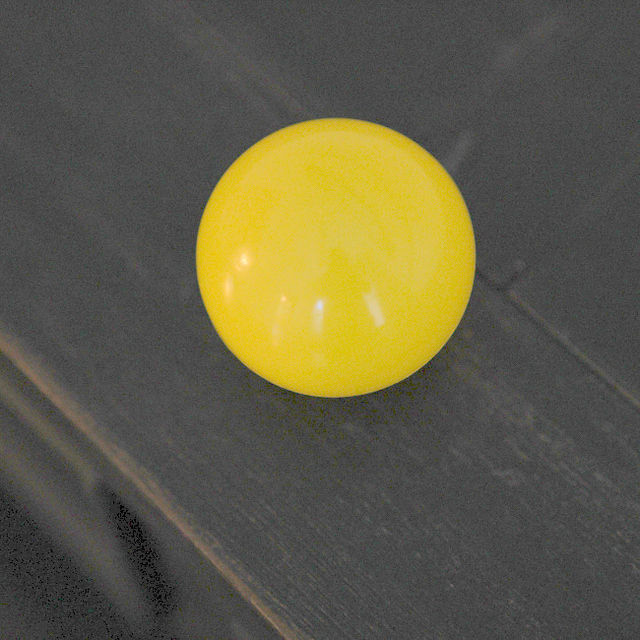Ball: (197, 123, 476, 400)
